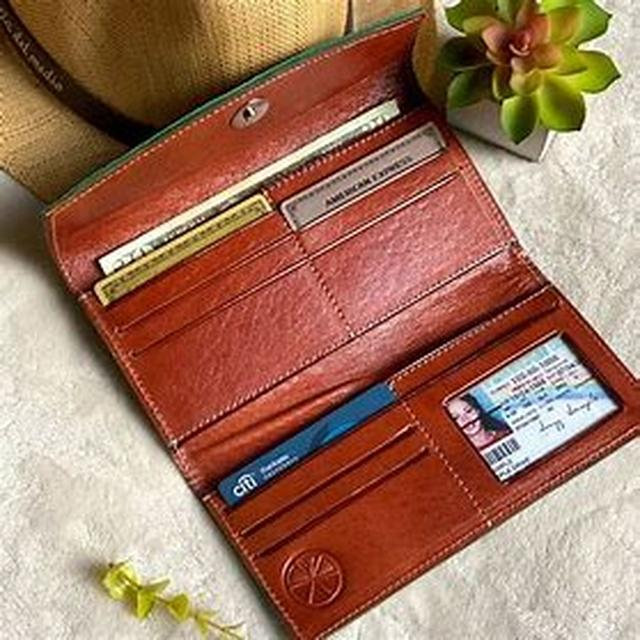wallet: (70, 83, 594, 608)
